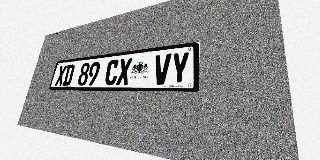8: (77, 62, 91, 86)
9: (86, 61, 101, 85)
C: (104, 59, 120, 85)
D: (62, 64, 75, 86)
V: (152, 53, 171, 85)
X: (116, 58, 133, 85), (55, 65, 67, 86)
Y: (170, 51, 190, 84)
